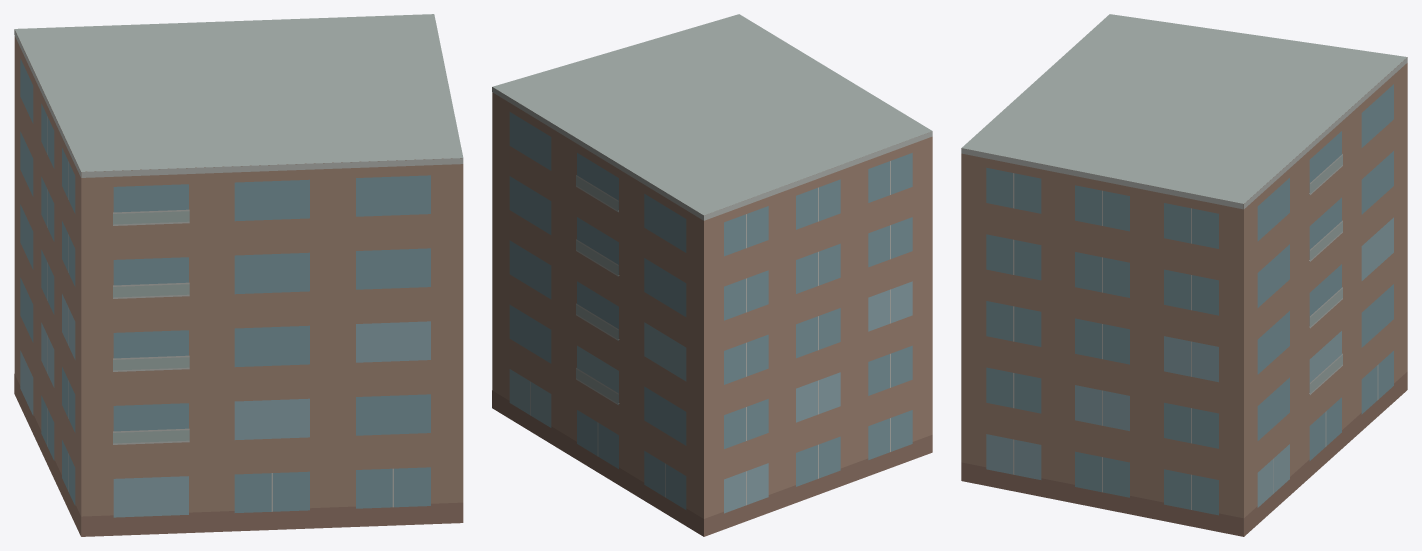
Rendered from survey-upis-33036370.glb.
3 views of the same model, side by side, from view 1: azimuth 30°, elevation 25°; view 2: azimuth 150°, elevation 25°; view 3: azimuth 270°, elevation 25° (orthographic). The views are drawn at different scales.
Visible parts, largest first — view 1: survey-upis-33036370.tmp; view 2: survey-upis-33036370.tmp; view 3: survey-upis-33036370.tmp.
Boxes of the visible parts, x1,y1,x2,y2 form: survey-upis-33036370.tmp: (14, 14, 463, 536); survey-upis-33036370.tmp: (492, 14, 932, 536); survey-upis-33036370.tmp: (961, 14, 1407, 536).
Bounding box in the file's own units: 17.99 × 14.7 × 17.86.
